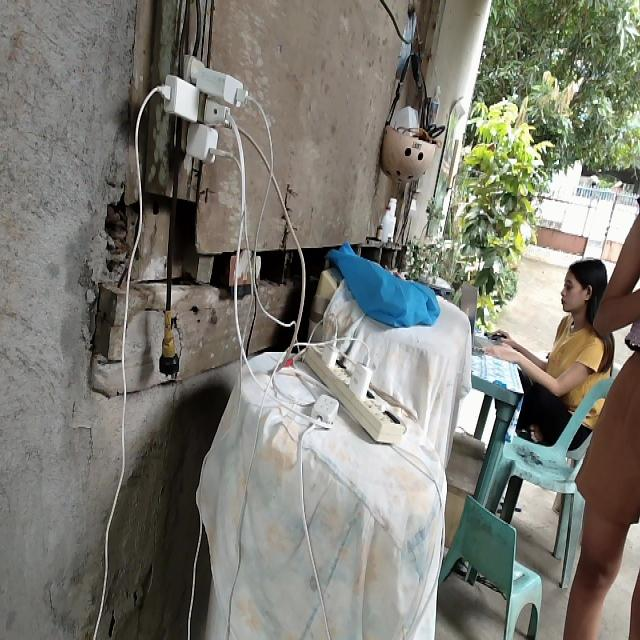-: (153, 49, 253, 163)
